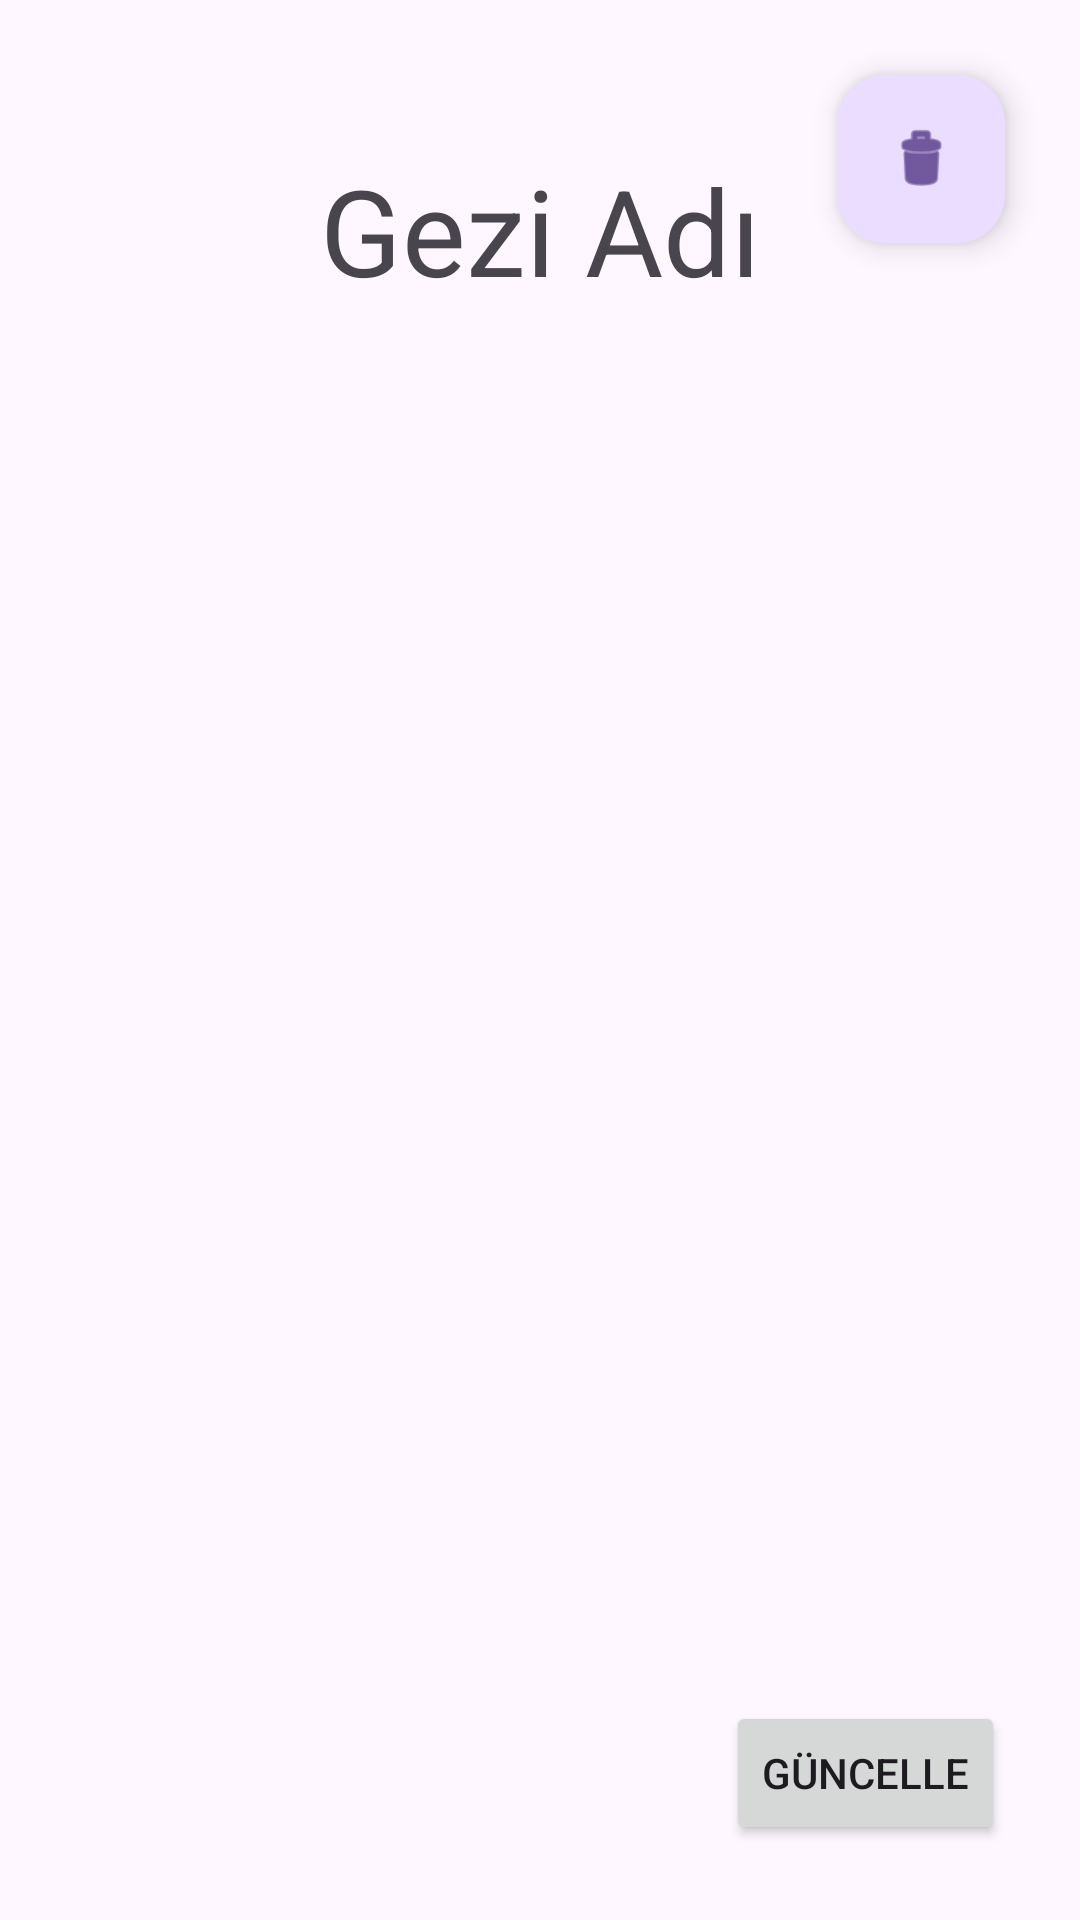

Named icons in this screenshot (1080*1920) and their bounding boxes, (x1, y1, x2, y2):
delete: (901, 130, 942, 186)
